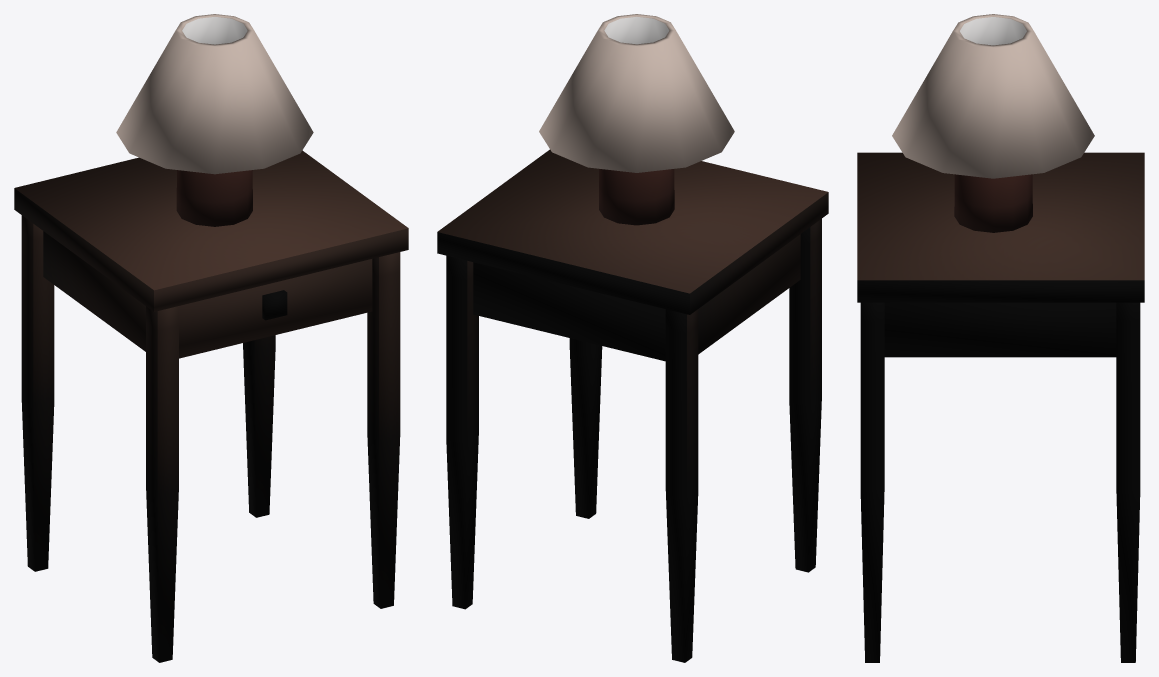
3 renders of one model, left to right at view 1: azimuth 30°, elevation 25°; view 2: azimuth 150°, elevation 25°; view 3: azimuth 270°, elevation 25°, orthographic. The views are drawn at different scales.
Parts seen in each view (by area): view 1: base.014; view 2: base.014; view 3: base.014.
Boxes of the visible parts, bbox=[...] form: base.014: bbox=[14, 14, 408, 662]; base.014: bbox=[437, 14, 828, 662]; base.014: bbox=[857, 14, 1144, 662].
Bounding box in the file's own units: 0.2389 × 0.5 × 0.2273.
